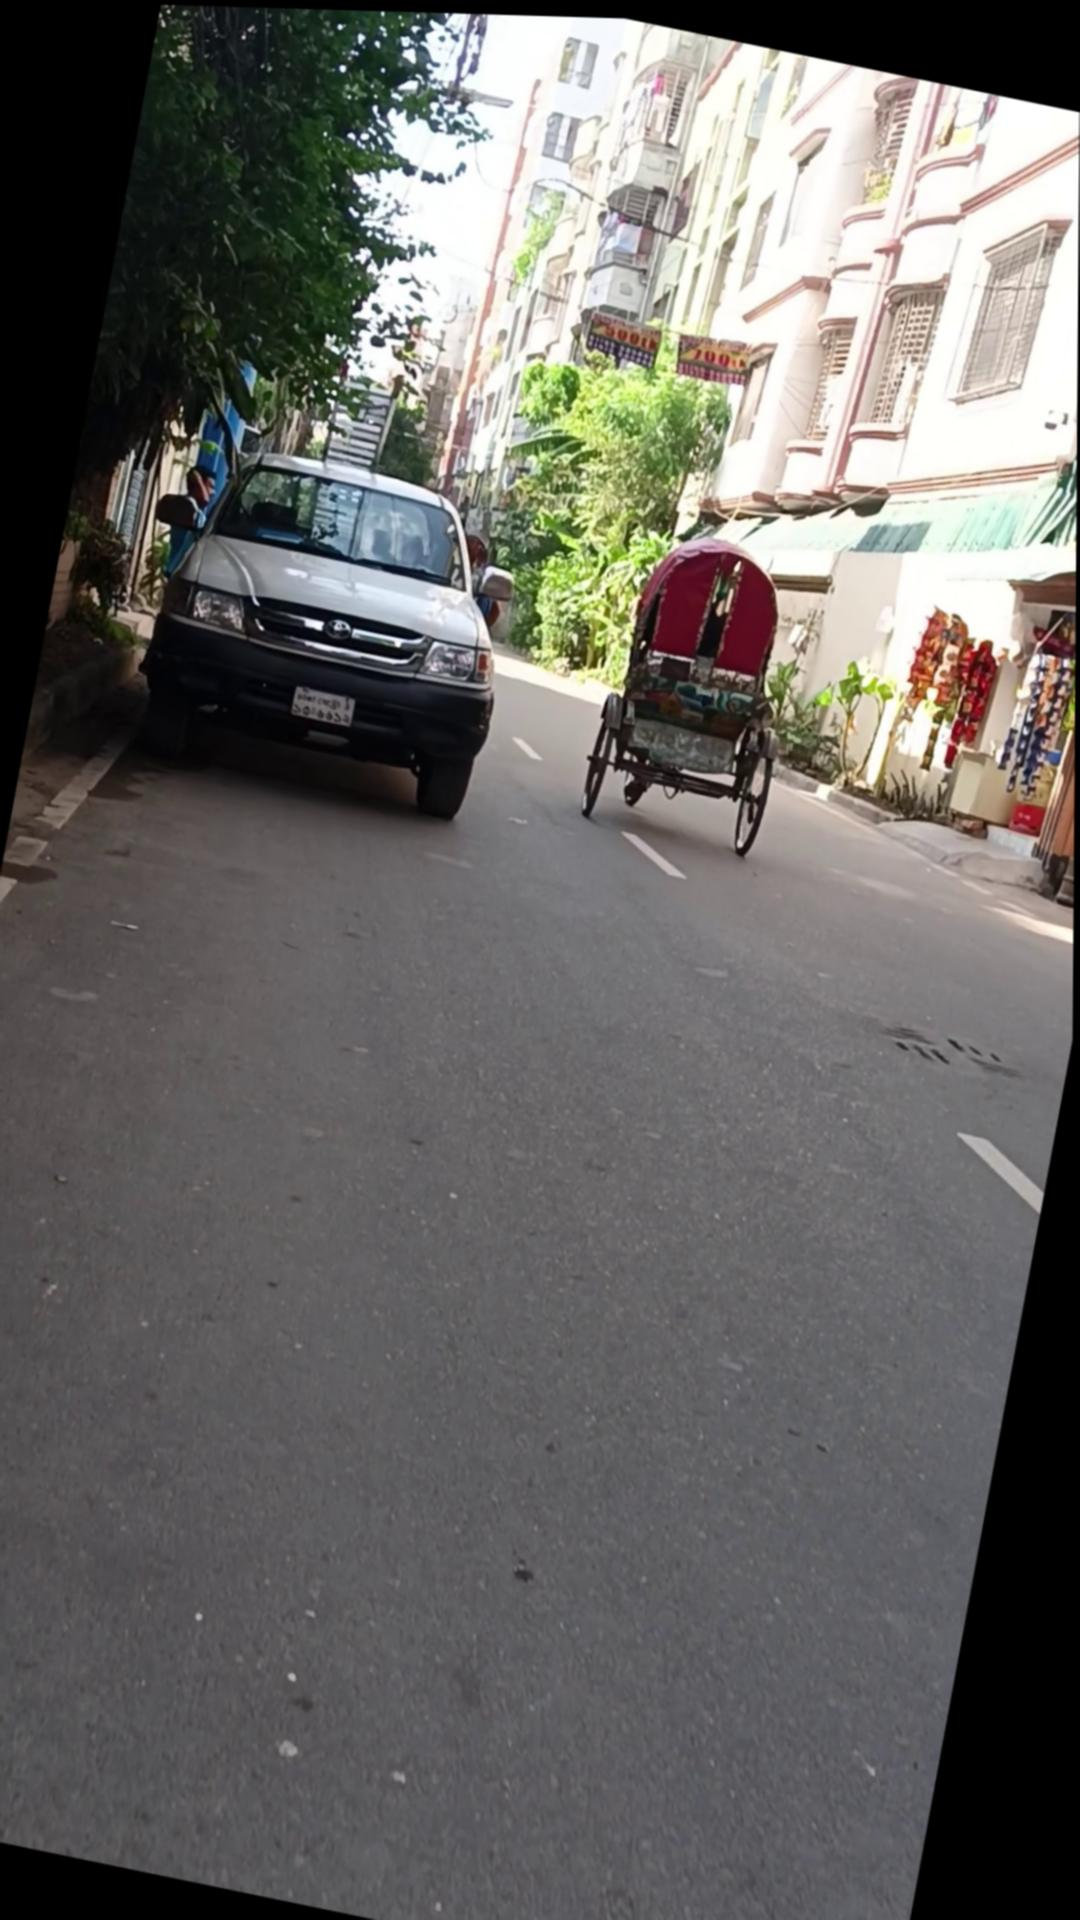Bollard: (113, 423, 533, 824)
Broken-road: (469, 641, 1068, 890), (762, 758, 1058, 889), (812, 773, 905, 822)
Fence: (576, 514, 815, 857)
Garbage: (869, 800, 1051, 885)
Light-pole: (62, 1, 526, 612), (467, 303, 745, 695)
